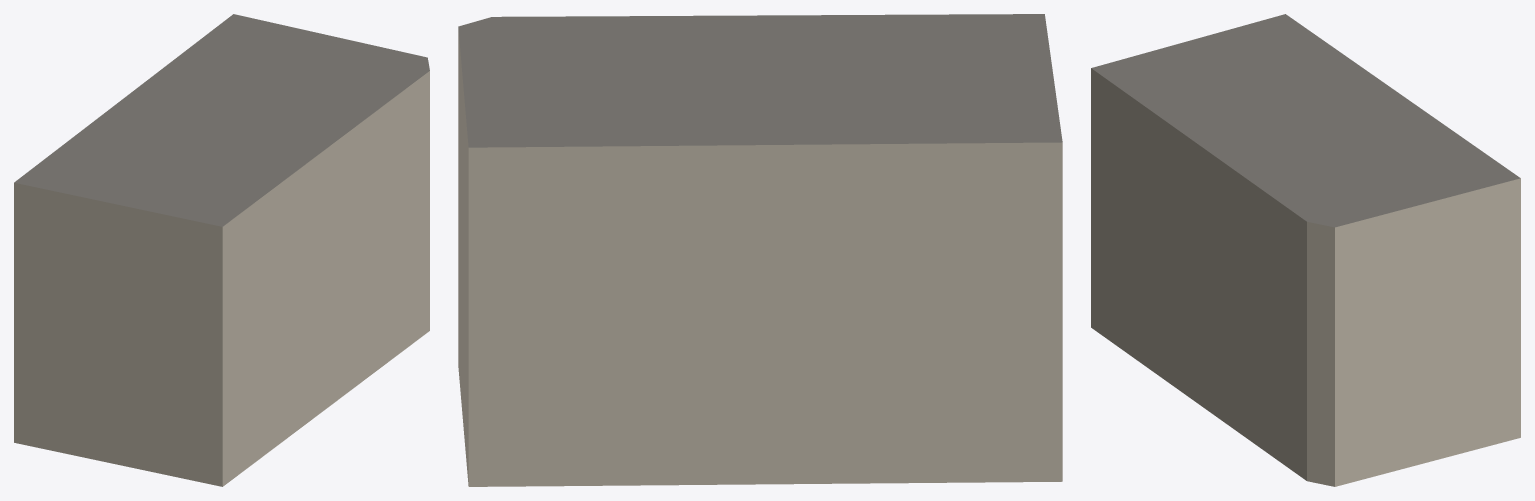
3 views of the same model, side by side, from view 1: azimuth 30°, elevation 25°; view 2: azimuth 150°, elevation 25°; view 3: azimuth 270°, elevation 25° (orthographic). The views are drawn at different scales.
Visible parts, largest first — view 1: HP-w1198530144; view 2: HP-w1198530144; view 3: HP-w1198530144.
Boxes of the visible parts, bbox=[...] form: HP-w1198530144: bbox=[14, 14, 429, 486]; HP-w1198530144: bbox=[458, 14, 1062, 486]; HP-w1198530144: bbox=[1091, 14, 1520, 486].
Size of the model in its own units: 31.76 by 18 by 27.02.
